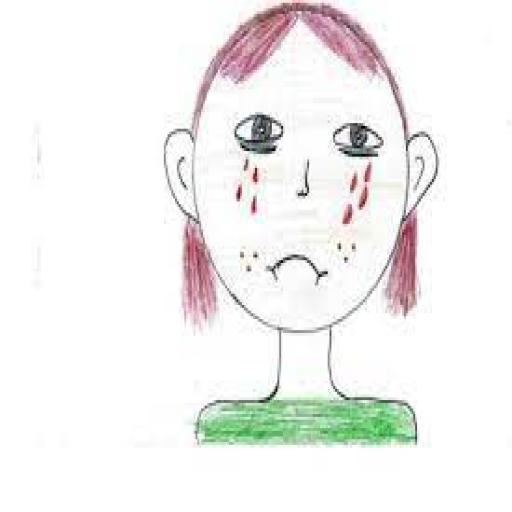person: (162, 0, 442, 470)
